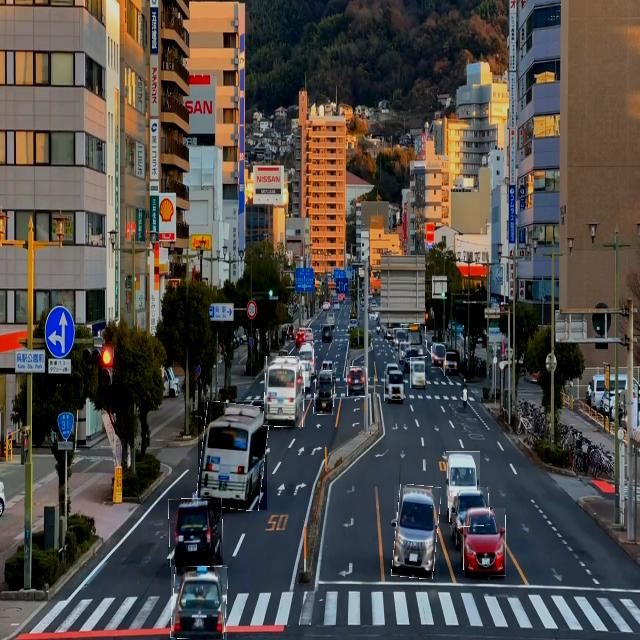Bus: (198, 402, 267, 510), (264, 356, 305, 427), (402, 324, 426, 357)
Car: (394, 485, 439, 579), (171, 565, 227, 640), (168, 499, 223, 567), (464, 508, 506, 576), (449, 487, 490, 527), (446, 451, 480, 496), (314, 370, 335, 415), (384, 371, 405, 401), (347, 367, 367, 397), (300, 342, 314, 378), (410, 357, 425, 388), (393, 328, 411, 351), (444, 351, 459, 376), (432, 342, 446, 368), (294, 325, 306, 351), (320, 324, 334, 343)
